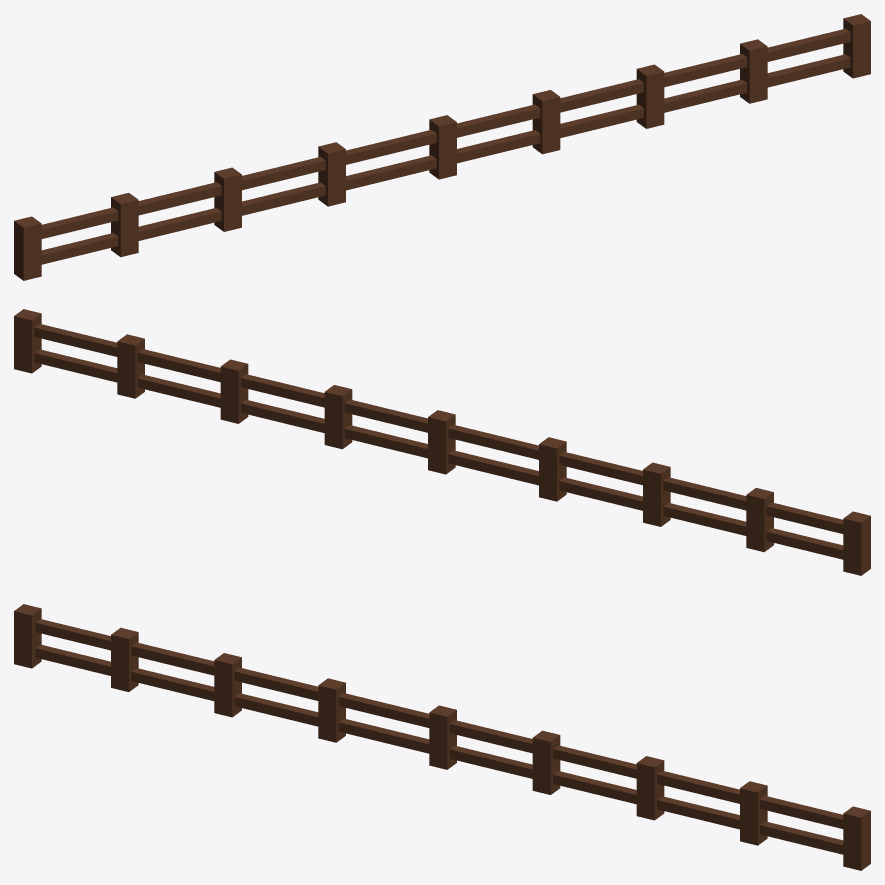
The model's file is fence.fbx.
3 views of the same model, one above another, from view 1: azimuth 30°, elevation 25°; view 2: azimuth 150°, elevation 25°; view 3: azimuth 330°, elevation 25° (orthographic).
Visible parts, largest first — view 1: Cube.023, Cube.024, Cube.033, Cube.026, Cube.027, Cube.028, Cube.030, Cube.032, Cube.025, Cube.029, Cube.031; view 2: Cube.023, Cube.024, Cube.033, Cube.026, Cube.027, Cube.028, Cube.030, Cube.032, Cube.025, Cube.029, Cube.031; view 3: Cube.024, Cube.023, Cube.029, Cube.026, Cube.027, Cube.033, Cube.025, Cube.031, Cube.030, Cube.032, Cube.028.
Part boxes in pixels (x1,y1,x2,y2): Cube.023: (41, 28, 850, 238); Cube.024: (41, 54, 850, 264); Cube.033: (14, 216, 41, 280); Cube.026: (532, 90, 560, 154); Cube.027: (636, 64, 664, 128); Cube.028: (740, 39, 767, 103); Cube.030: (111, 193, 138, 257); Cube.032: (318, 142, 345, 206); Cube.025: (429, 115, 456, 179); Cube.029: (843, 14, 870, 78); Cube.031: (214, 167, 241, 231); Cube.023: (34, 323, 843, 533); Cube.024: (34, 349, 843, 559); Cube.033: (843, 511, 870, 575); Cube.026: (324, 385, 352, 449); Cube.027: (220, 359, 248, 423); Cube.028: (117, 334, 144, 398); Cube.030: (746, 488, 773, 552); Cube.032: (539, 437, 566, 501); Cube.025: (428, 410, 455, 474); Cube.029: (14, 309, 41, 373); Cube.031: (643, 462, 670, 526); Cube.024: (35, 644, 843, 854); Cube.023: (35, 619, 843, 828); Cube.029: (843, 806, 870, 870); Cube.026: (532, 730, 560, 794); Cube.027: (636, 756, 664, 820); Cube.033: (14, 604, 41, 668); Cube.025: (429, 705, 456, 769); Cube.031: (214, 653, 241, 717); Cube.030: (111, 627, 138, 691); Cube.032: (318, 678, 345, 742); Cube.028: (740, 781, 767, 845).
Size of the model in its own units: 133 by 7.95 by 2.62.
